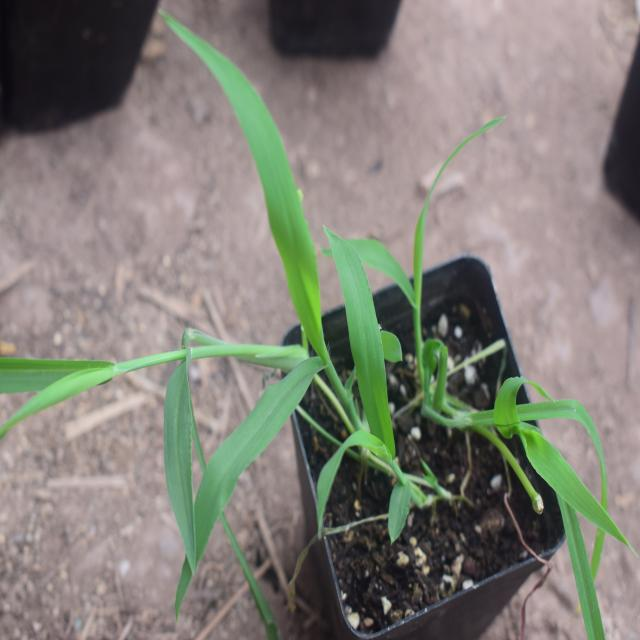crabgrass: (175, 74, 429, 529)
